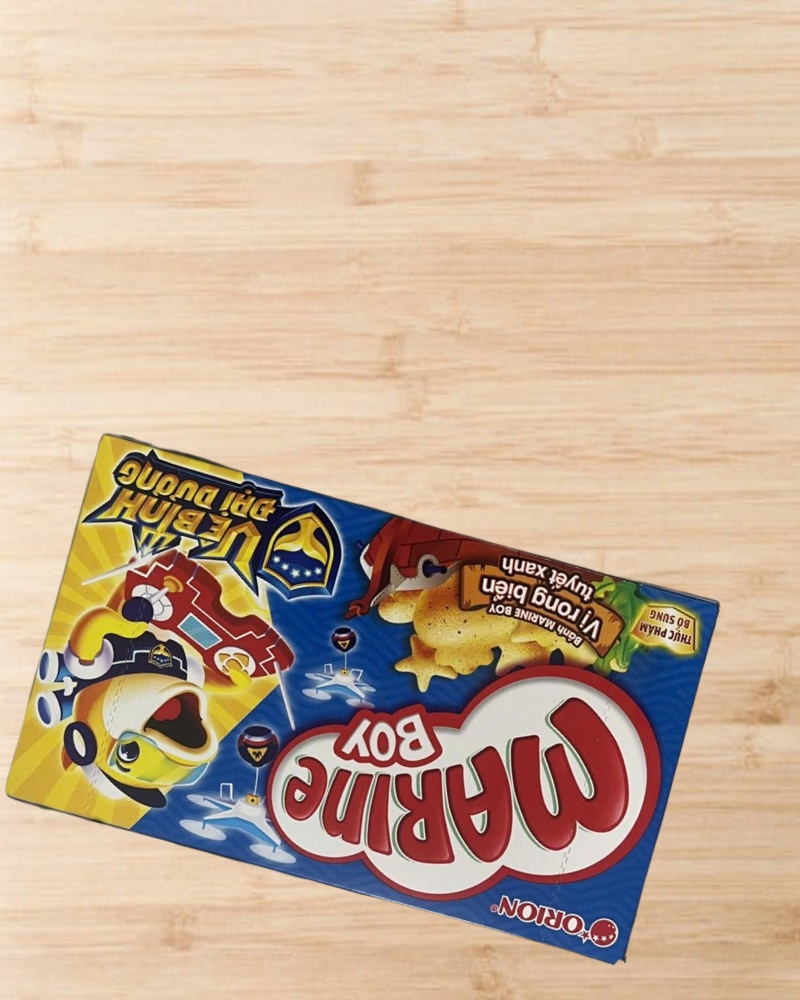Marine: (0, 432, 723, 968)
